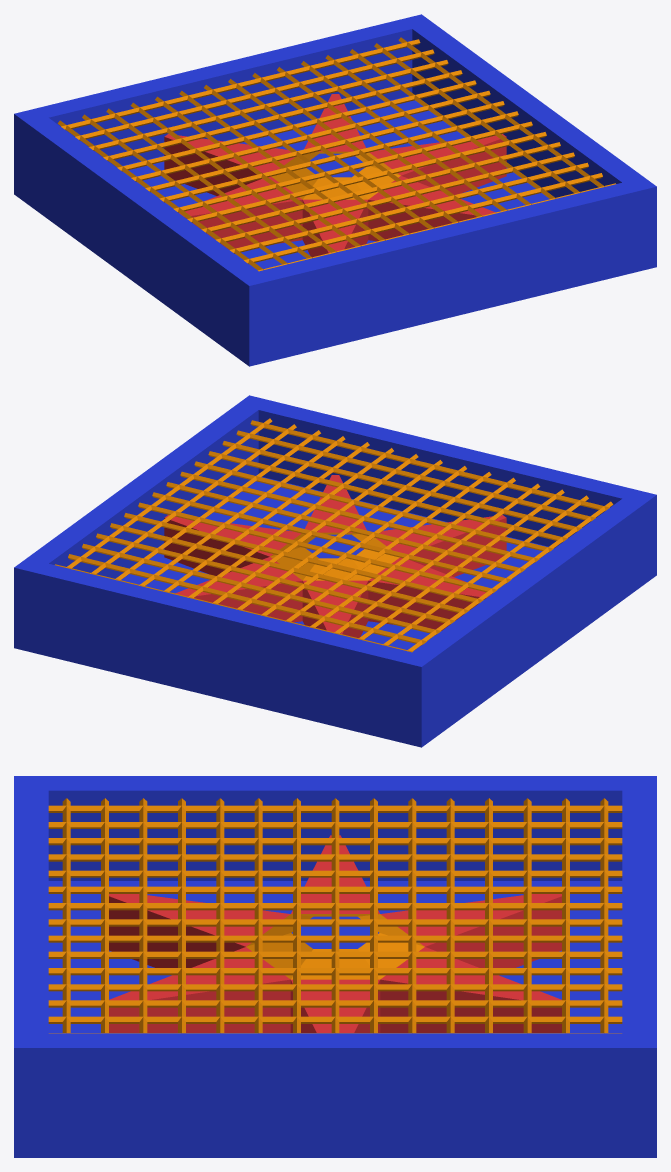
The model's file is engel17.fbx.
3 views of the same model, one above another, from view 1: azimuth 30°, elevation 25°; view 2: azimuth 150°, elevation 25°; view 3: azimuth 270°, elevation 25° (orthographic). The views are drawn at different scales.
Parts seen in each view (by area): view 1: Cube.008, Cylinder.021; view 2: Cube.008, Cylinder.021; view 3: Cube.008, Cylinder.021.
Part boxes in pixels (x1,y1,x2,y2): Cube.008: (14, 14, 656, 366); Cylinder.021: (164, 94, 506, 257); Cube.008: (14, 395, 656, 747); Cylinder.021: (164, 475, 506, 638); Cube.008: (14, 776, 656, 1157); Cylinder.021: (109, 835, 561, 1032).
Size of the model in its own units: 281 by 53.16 by 281.
